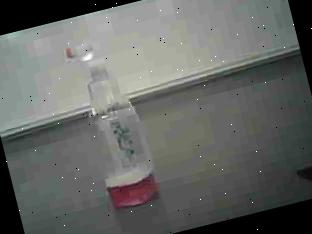hazard: (52, 21, 180, 220)
